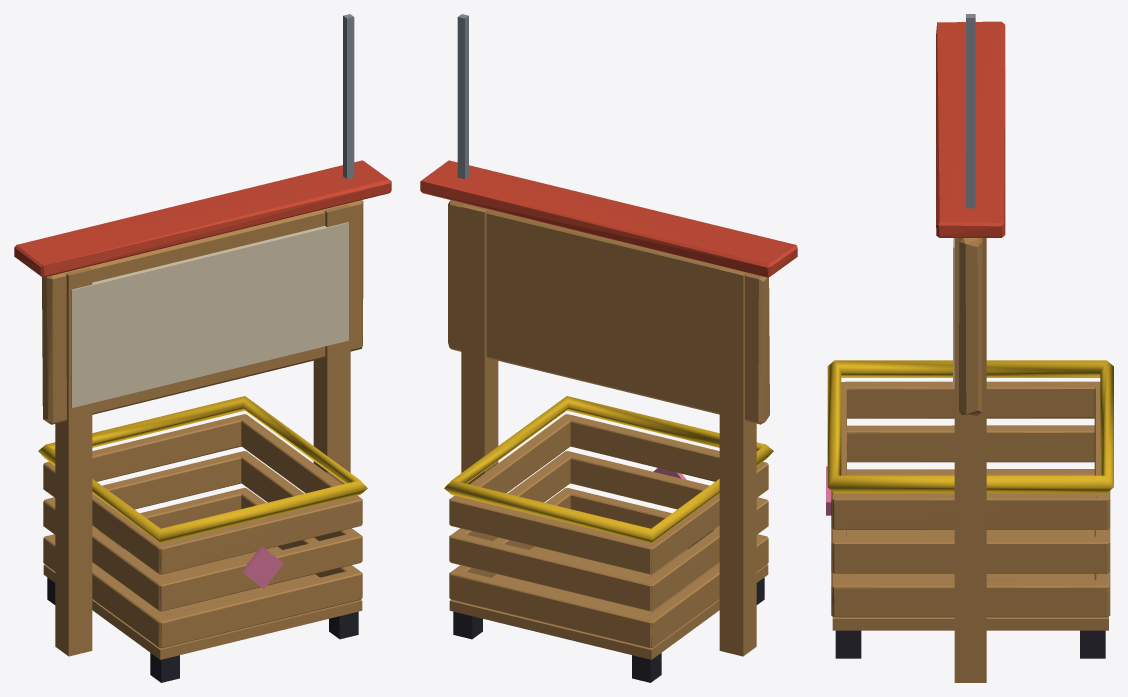
The model's file is props-mp.0b076708.glb.
3 views of the same model, side by side, from view 1: azimuth 30°, elevation 25°; view 2: azimuth 150°, elevation 25°; view 3: azimuth 270°, elevation 25° (orthographic). The views are drawn at different scales.
Visible parts, largest first — view 1: PlotSign__T_vcol, SupplyBin__T_vcol; view 2: PlotSign__T_vcol, SupplyBin__T_vcol; view 3: SupplyBin__T_vcol, PlotSign__T_vcol.
Part boxes in pixels (<box>): PlotSign__T_vcol: <box>14,14,391,656</box>; SupplyBin__T_vcol: <box>38,396,367,682</box>; PlotSign__T_vcol: <box>420,14,797,656</box>; SupplyBin__T_vcol: <box>444,396,773,682</box>; SupplyBin__T_vcol: <box>826,360,1113,658</box>; PlotSign__T_vcol: <box>936,14,1005,682</box>.
Bounding box in the file's own units: 1.5 × 2.3 × 0.8955.
